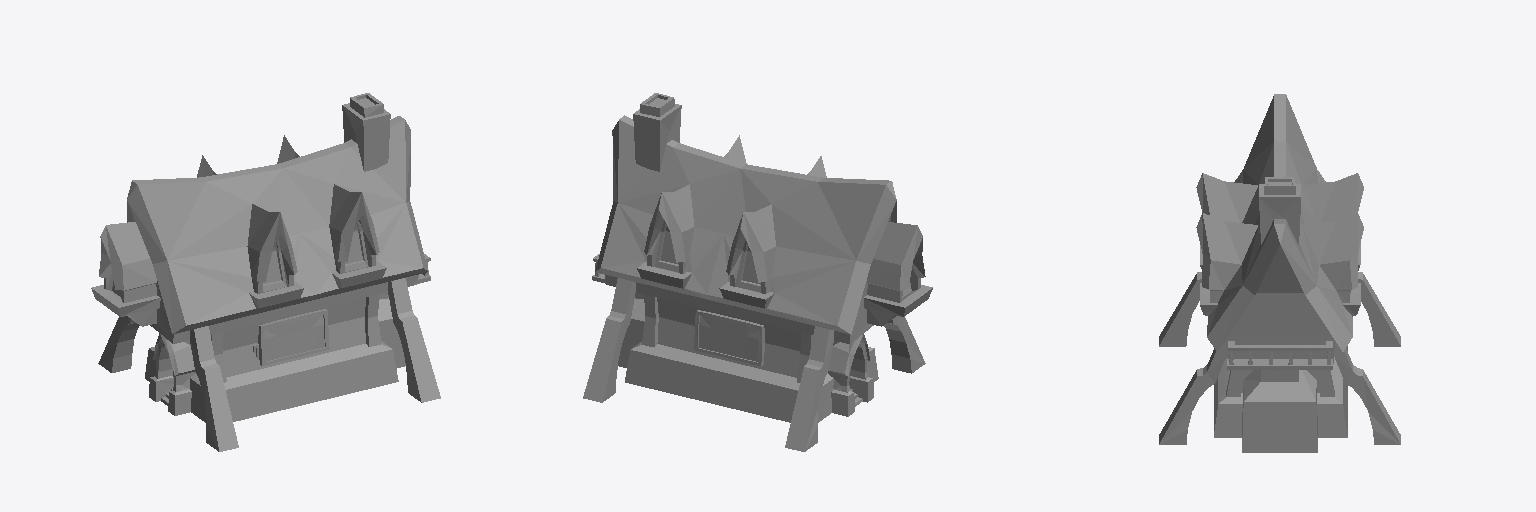
The model's file is nd_human_house01.obj.
3 renders of one model, left to right at view 1: azimuth 30°, elevation 25°; view 2: azimuth 150°, elevation 25°; view 3: azimuth 270°, elevation 25°, orthographic.
Visible parts, largest first — view 1: house_ext; view 2: house_ext; view 3: house_ext.
Part boxes in pixels (x1,y1,x2,y2): house_ext: (91, 93, 440, 451); house_ext: (583, 93, 932, 451); house_ext: (1159, 94, 1400, 452).
Size of the model in its own units: 38.05 by 30.03 by 25.71.